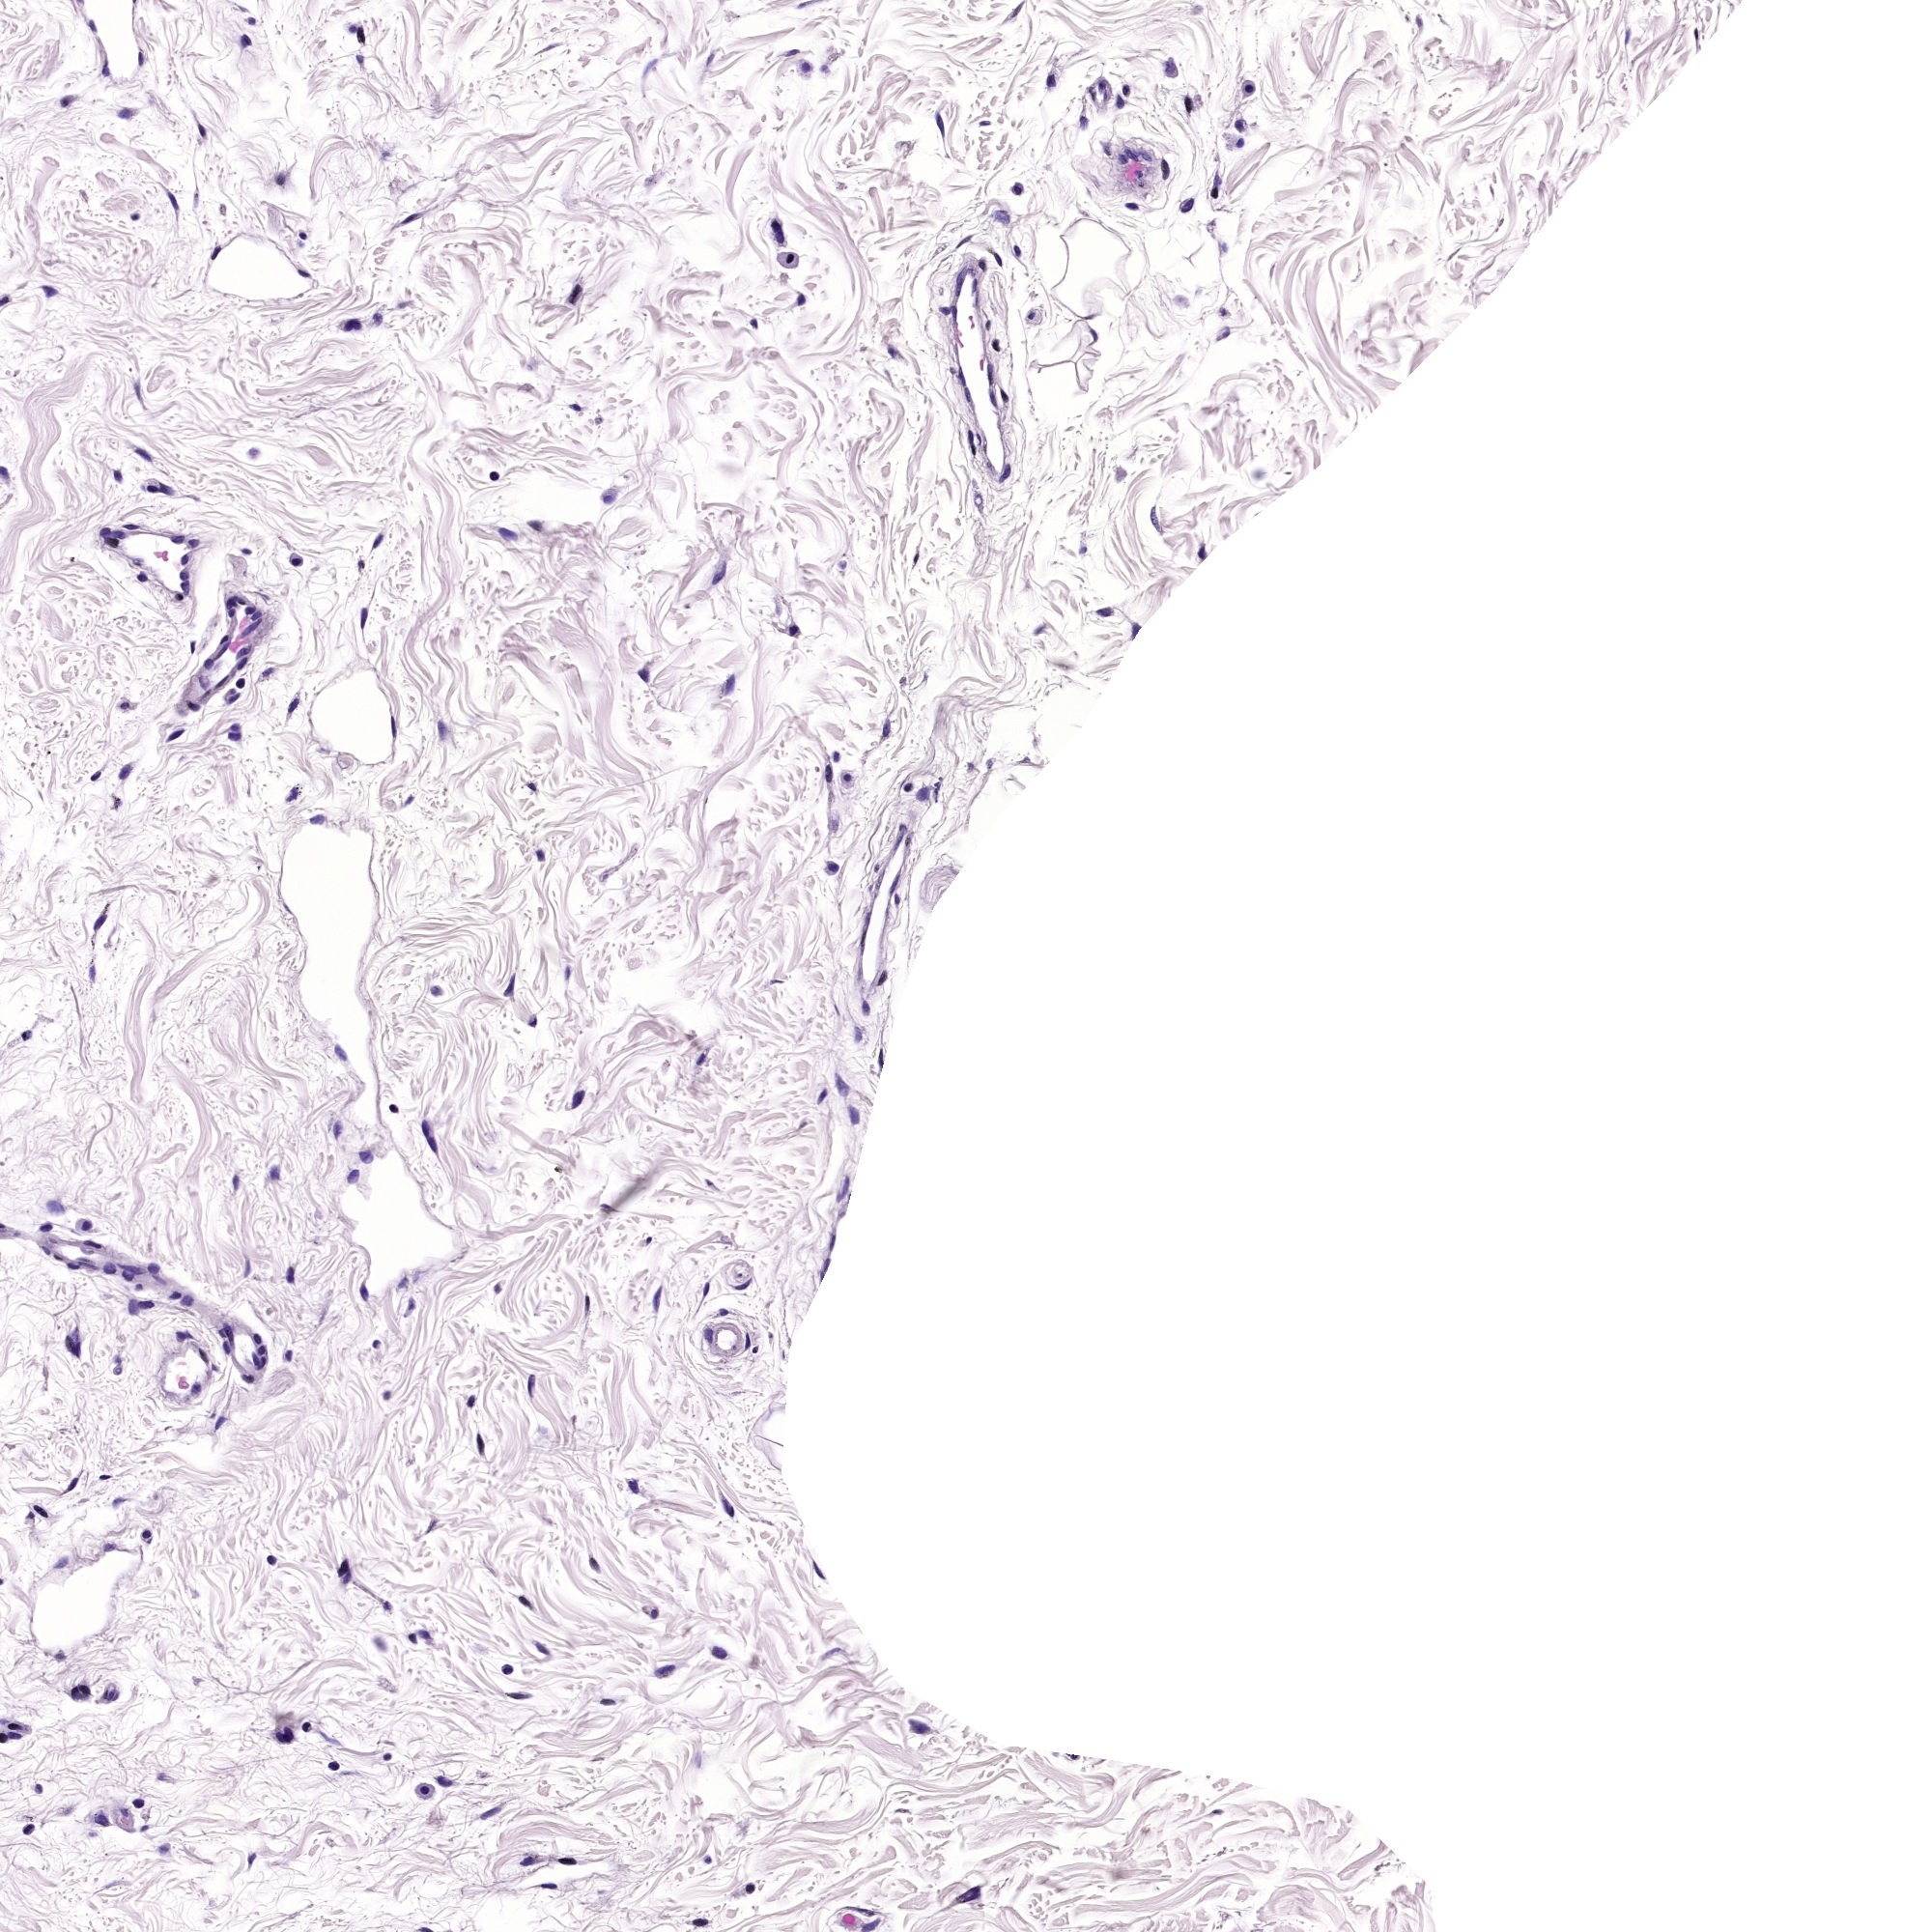fibroblast and endothelial: (993, 395, 996, 403), (1164, 165, 1168, 173), (46, 288, 51, 294), (218, 681, 223, 686), (228, 602, 234, 607), (258, 1361, 264, 1366), (959, 274, 962, 281), (510, 984, 513, 991), (120, 113, 131, 115), (959, 241, 964, 244), (1118, 101, 1122, 106), (1185, 101, 1189, 106), (1129, 154, 1134, 157), (1005, 471, 1010, 474), (92, 777, 97, 780), (230, 697, 235, 701), (219, 649, 225, 653), (249, 625, 255, 628), (96, 922, 99, 927), (340, 1051, 343, 1056), (540, 853, 543, 858), (244, 1378, 249, 1382), (223, 1345, 228, 1348), (203, 1353, 207, 1359), (69, 1483, 74, 1486), (968, 1891, 973, 1895), (442, 729, 444, 738), (133, 1302, 134, 1311), (301, 272, 304, 276), (407, 218, 410, 221), (573, 292, 575, 299), (1145, 156, 1148, 159), (1102, 610, 1106, 614), (828, 770, 830, 777), (506, 533, 510, 536), (363, 610, 364, 617), (290, 702, 292, 709), (124, 770, 127, 773), (255, 614, 258, 617), (110, 541, 117, 543), (881, 975, 885, 978), (722, 1309, 725, 1313), (131, 1269, 134, 1272), (410, 1637, 414, 1640), (11, 1725, 14, 1729), (717, 1651, 720, 1654), (918, 1725, 922, 1729), (58, 1562, 62, 1566), (62, 101, 67, 103), (575, 405, 577, 410), (991, 377, 993, 382), (1224, 331, 1230, 333), (1187, 203, 1189, 209), (729, 681, 731, 686), (292, 793, 294, 798), (140, 579, 145, 580), (315, 819, 320, 821), (338, 1129, 340, 1134), (855, 1111, 856, 1116), (844, 1185, 846, 1191), (143, 1304, 149, 1306), (513, 1695, 518, 1697), (90, 25, 92, 28), (246, 37, 248, 41), (945, 310, 948, 311), (961, 377, 962, 380), (996, 257, 998, 260), (982, 122, 985, 124), (1242, 142, 1244, 145), (718, 575, 720, 579), (393, 724, 395, 727), (531, 786, 533, 789), (232, 736, 235, 738), (234, 727, 235, 731), (191, 706, 195, 708), (246, 649, 249, 651), (246, 550, 249, 552), (103, 531, 106, 533), (150, 488, 154, 490), (163, 488, 166, 490), (143, 453, 145, 456), (701, 1058, 702, 1062), (893, 885, 895, 888), (897, 839, 899, 842), (858, 1033, 860, 1037), (708, 1182, 709, 1185), (754, 1348, 755, 1352), (479, 1442, 481, 1445), (386, 1394, 387, 1398), (235, 1180, 237, 1184), (255, 1359, 257, 1362), (218, 1419, 219, 1422), (154, 1267, 157, 1269), (58, 1258, 62, 1260), (44, 1249, 46, 1253), (88, 1244, 92, 1246), (541, 1647, 543, 1651), (441, 1780, 444, 1782), (817, 1569, 819, 1573), (865, 1911, 869, 1913), (869, 1927, 870, 1930), (564, 1859, 568, 1861), (99, 1819, 103, 1821), (104, 71, 106, 73), (359, 58, 361, 60), (968, 393, 970, 395), (1093, 333, 1095, 334), (1131, 205, 1132, 207), (1200, 552, 1201, 554), (908, 787, 909, 789), (885, 729, 886, 731), (375, 540, 377, 541), (242, 663, 244, 665), (230, 612, 232, 614), (249, 610, 251, 612), (179, 540, 180, 541), (184, 559, 186, 561), (409, 800, 410, 801), (863, 936, 865, 938), (587, 1300, 589, 1302), (706, 1288, 708, 1290), (741, 1286, 743, 1288), (471, 1399, 472, 1401), (180, 1338, 182, 1339), (71, 1265, 73, 1267), (46, 1226, 48, 1228), (524, 1601, 525, 1603), (605, 1702, 607, 1704), (488, 1812, 490, 1813), (108, 1548, 110, 1550), (39, 1509, 41, 1511), (14, 1736, 16, 1737), (527, 1861, 529, 1863)
inflammatory: (837, 1083, 844, 1090), (27, 1826, 32, 1829), (846, 777, 849, 780), (607, 497, 610, 501), (85, 1224, 88, 1228), (281, 1736, 288, 1737), (1249, 87, 1251, 92), (789, 257, 791, 260), (833, 867, 835, 870), (1031, 315, 1033, 317)
lymphocyte: (177, 596, 180, 600), (504, 1667, 508, 1670), (241, 681, 242, 685), (750, 1886, 752, 1890), (393, 1108, 395, 1109), (334, 1766, 336, 1767), (138, 1803, 140, 1805)
